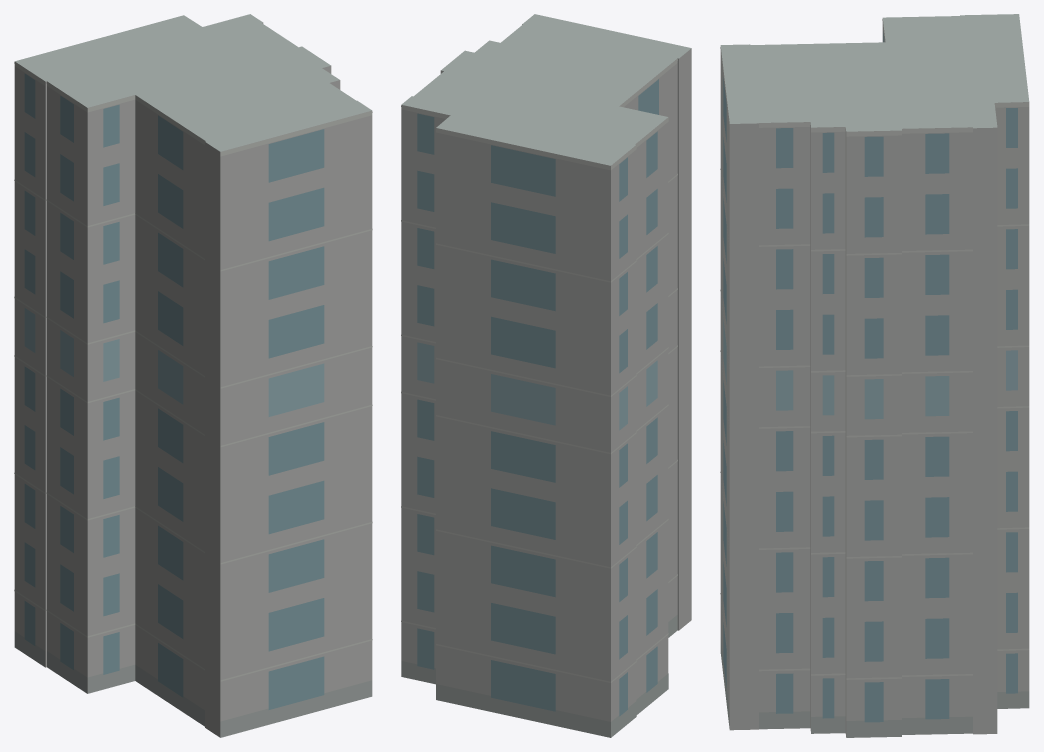
The model's file is survey-upis-32692607.glb.
The picture shows the model from 3 angles, left to right: view 1: azimuth 30°, elevation 25°; view 2: azimuth 150°, elevation 25°; view 3: azimuth 270°, elevation 25°; orthographic projection. The views are drawn at different scales.
Parts seen in each view (by area): view 1: survey-upis-32692607.tmp; view 2: survey-upis-32692607.tmp; view 3: survey-upis-32692607.tmp.
Part boxes in pixels (bbox=[...]): survey-upis-32692607.tmp: bbox=[14, 14, 372, 737]; survey-upis-32692607.tmp: bbox=[401, 14, 691, 737]; survey-upis-32692607.tmp: bbox=[720, 14, 1029, 737].
Size of the model in its own units: 12.73 by 30.5 by 14.1.
